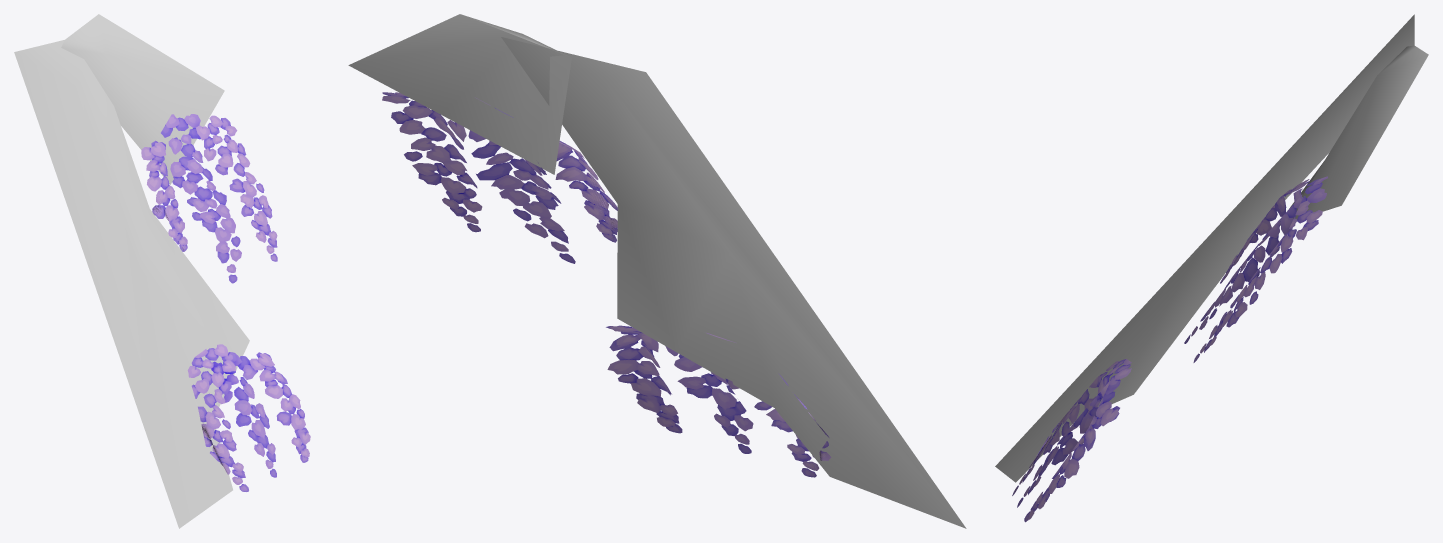
Rendered from SM_Env_Vines_Preset_Roof_Straight_01.fbx.
3 renders of one model, left to right at view 1: azimuth 30°, elevation 25°; view 2: azimuth 150°, elevation 25°; view 3: azimuth 270°, elevation 25°, orthographic. The views are drawn at different scales.
Visible parts, largest first — view 1: SM_Env_Vines_Preset_Roof_Straight_01; view 2: SM_Env_Vines_Preset_Roof_Straight_01; view 3: SM_Env_Vines_Preset_Roof_Straight_01.
Boxes of the visible parts, x1,y1,x2,y2 form: SM_Env_Vines_Preset_Roof_Straight_01: (14, 14, 310, 528); SM_Env_Vines_Preset_Roof_Straight_01: (348, 14, 966, 528); SM_Env_Vines_Preset_Roof_Straight_01: (995, 14, 1428, 522).
Bounding box in the file's own units: 126 × 232 × 195.
